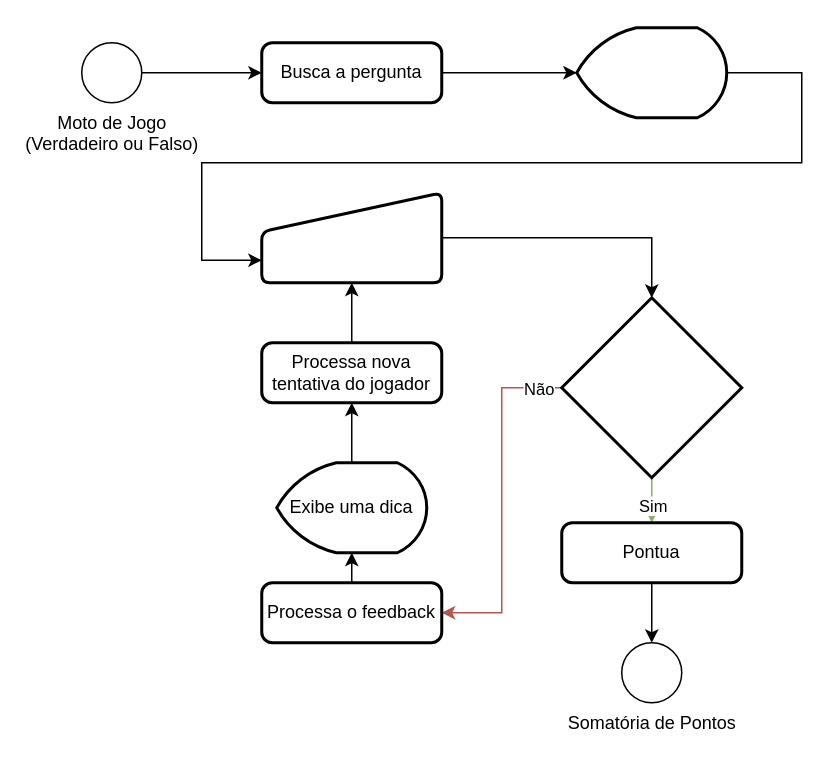
The diagram is 840 pixels wide and 759 high, and some of its shapes have lost their labels. The centre of each missing label's shape, as x and y in pixels:
"A resposta esta correta?" goes at [651,387].
"Escolhe se verdadeiro ou falso" goes at [351,237].
"Exibe a pergunta" goes at [651,72].
